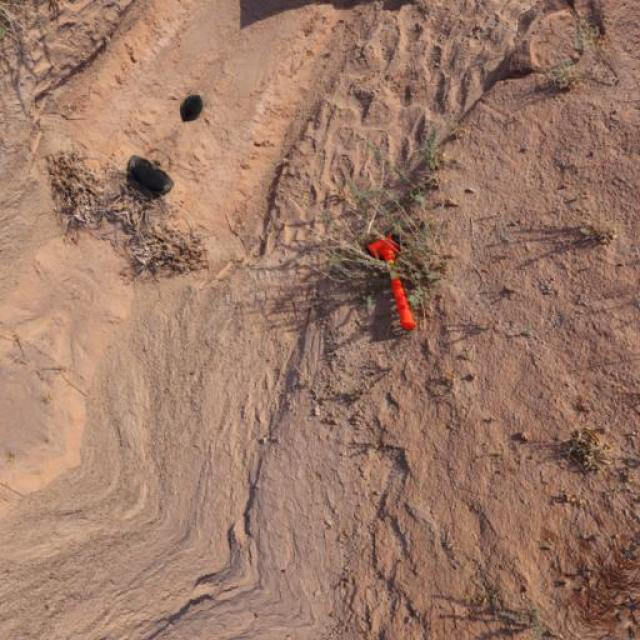mallet: (365, 231, 416, 330)
